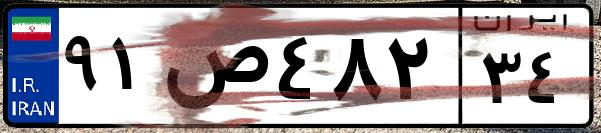1: (110, 28, 158, 98)
2: (385, 28, 445, 110)
3: (475, 38, 525, 113)
4: (270, 28, 330, 110), (525, 38, 570, 115)
8: (330, 28, 385, 110)
9: (57, 26, 110, 100)
ص: (158, 20, 270, 120)
